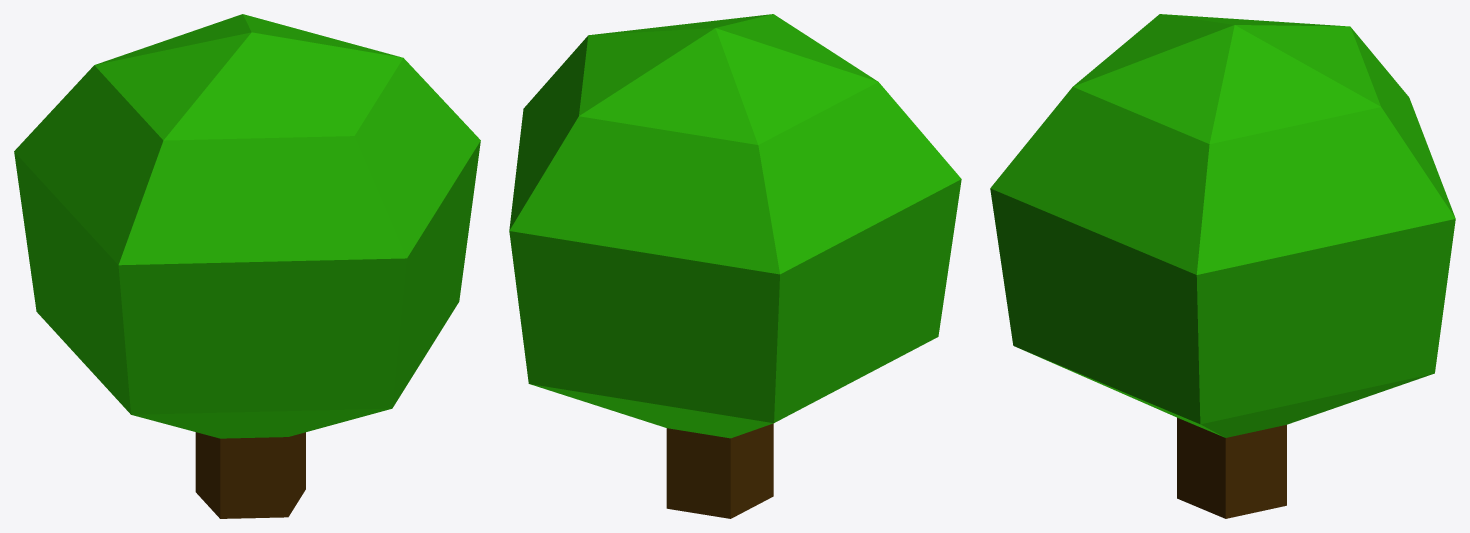
The model's file is Bush_1.fbx.
3 views of the same model, side by side, from view 1: azimuth 30°, elevation 25°; view 2: azimuth 150°, elevation 25°; view 3: azimuth 270°, elevation 25° (orthographic).
Parts seen in each view (by area): view 1: Bush_1; view 2: Bush_1; view 3: Bush_1.
Boxes of the visible parts, x1,y1,x2,y2 form: Bush_1: (14, 14, 480, 518); Bush_1: (509, 14, 961, 518); Bush_1: (990, 14, 1455, 518).
Size of the model in its own units: 147 by 163 by 147.
